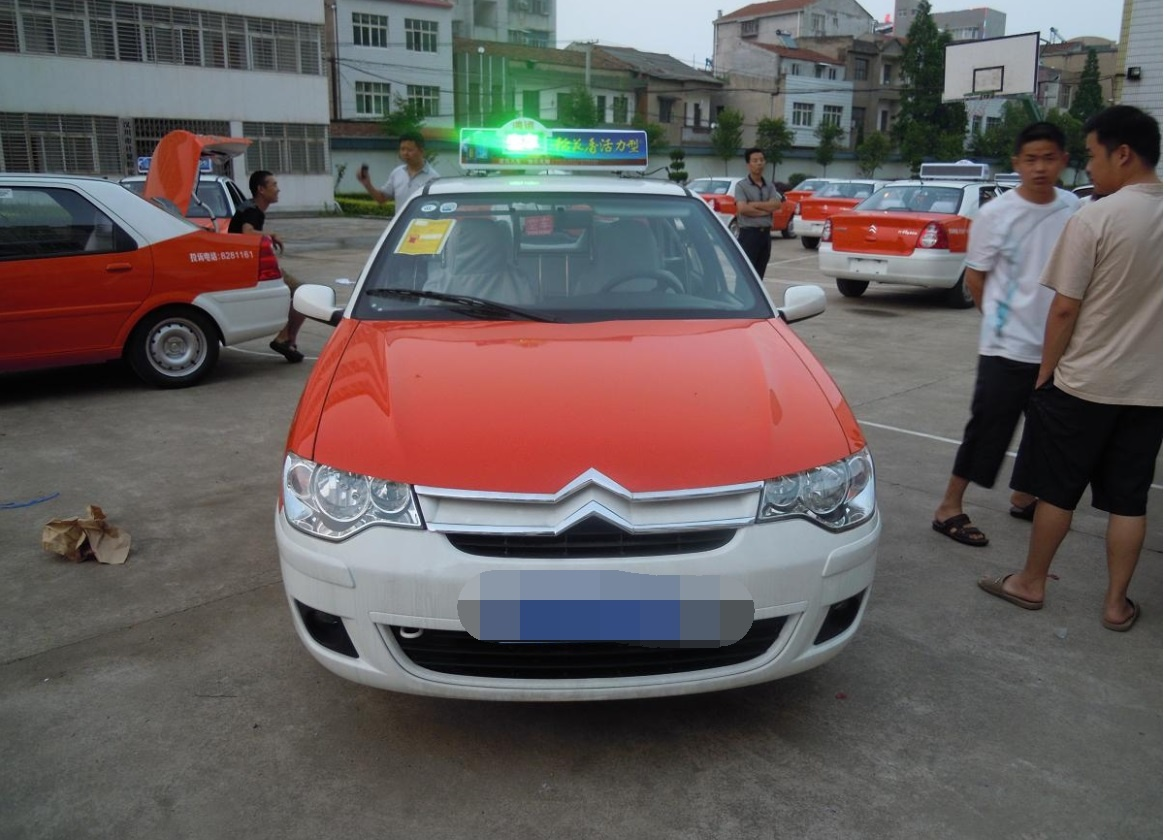taxi: (264, 111, 876, 721)
